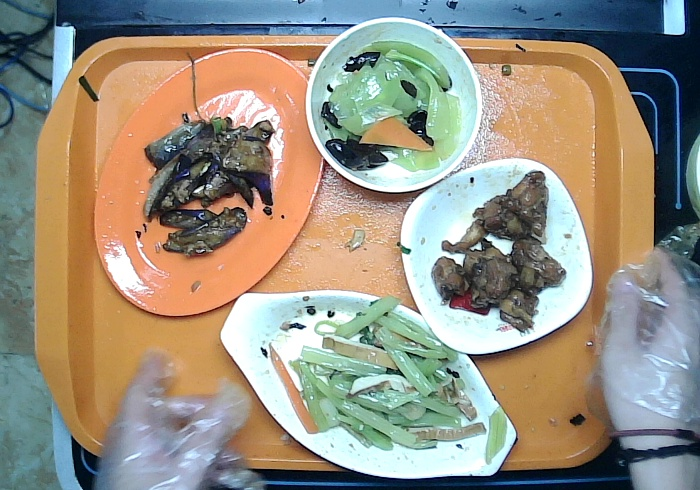NLDX-Bai_Se_Xiao_Fang_Die: (401, 157, 593, 354)
NLDX-Fan_Wan: (306, 15, 483, 193)
NLDX-Ju_Se_Pan: (94, 48, 324, 318)
NLDX-Yu_Pan: (219, 288, 518, 479)
